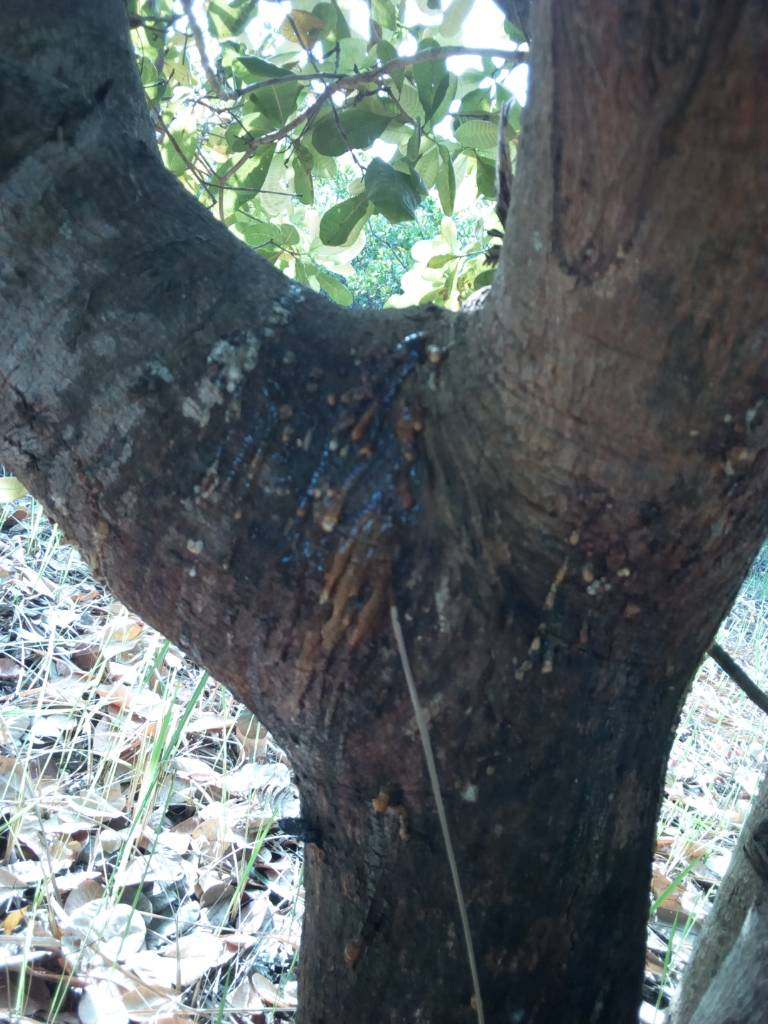Gommose: (208, 335, 443, 686), (486, 600, 624, 1024)
